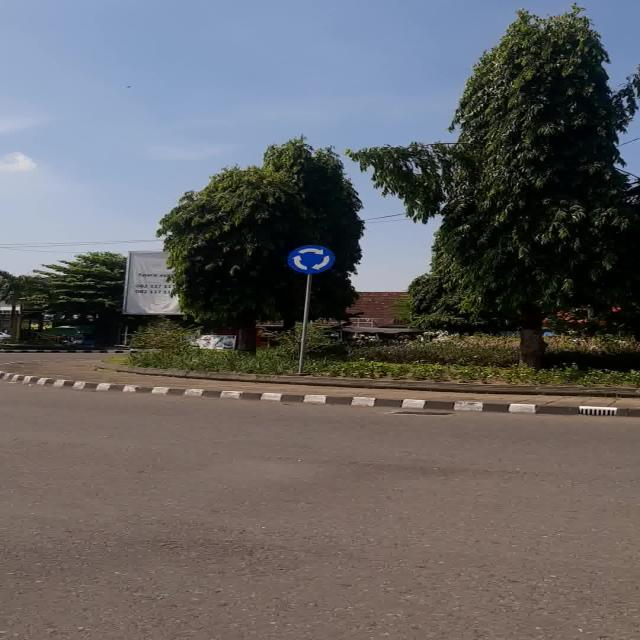Ikuti Bundaran: (286, 244, 336, 274)
